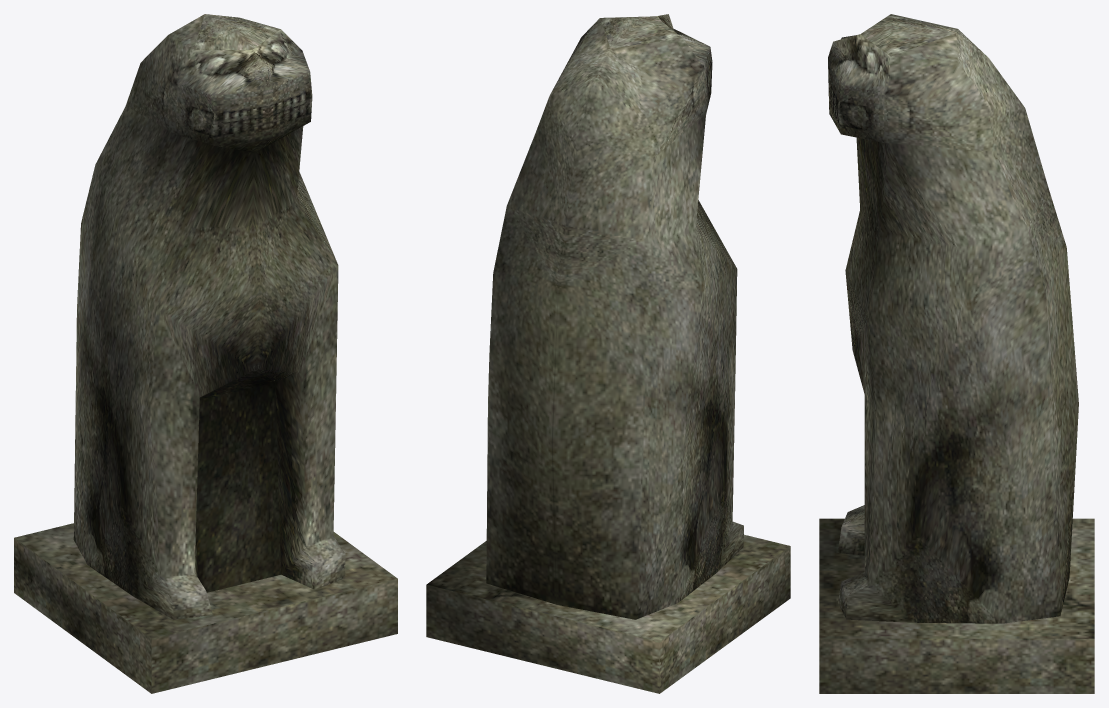
File: c_sta_01.glb
The picture shows the model from 3 angles, left to right: view 1: azimuth 30°, elevation 25°; view 2: azimuth 150°, elevation 25°; view 3: azimuth 270°, elevation 25°; orthographic projection. The views are drawn at different scales.
Visible parts, largest first — view 1: C_sta_01; view 2: C_sta_01; view 3: C_sta_01.
Boxes of the visible parts, left/top/right/bottom form: C_sta_01: left=14, top=14, right=397, bottom=693; C_sta_01: left=426, top=14, right=790, bottom=693; C_sta_01: left=819, top=14, right=1094, bottom=693.
Bounding box in the file's own units: 1.01 × 2.39 × 0.9823.
Materials: 1 (1 with a texture image).
